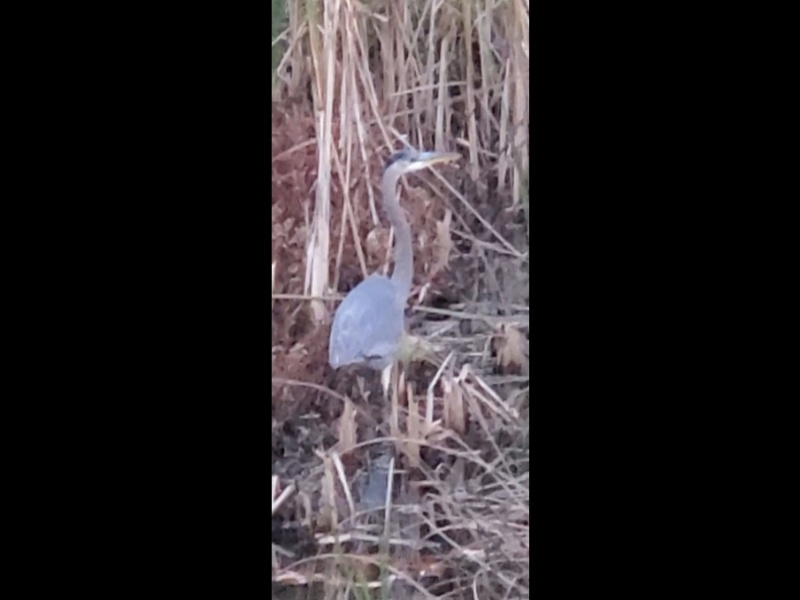heron: (326, 148, 464, 419)
